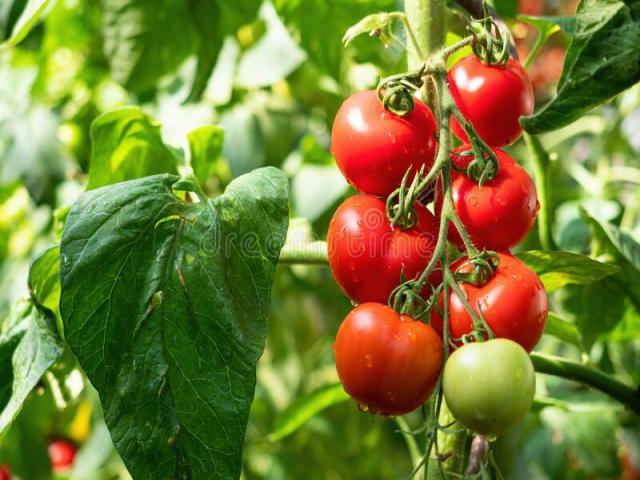tomato: (324, 189, 456, 309), (410, 148, 552, 255), (331, 294, 444, 423), (335, 81, 437, 201), (448, 246, 554, 350), (436, 50, 534, 150)
